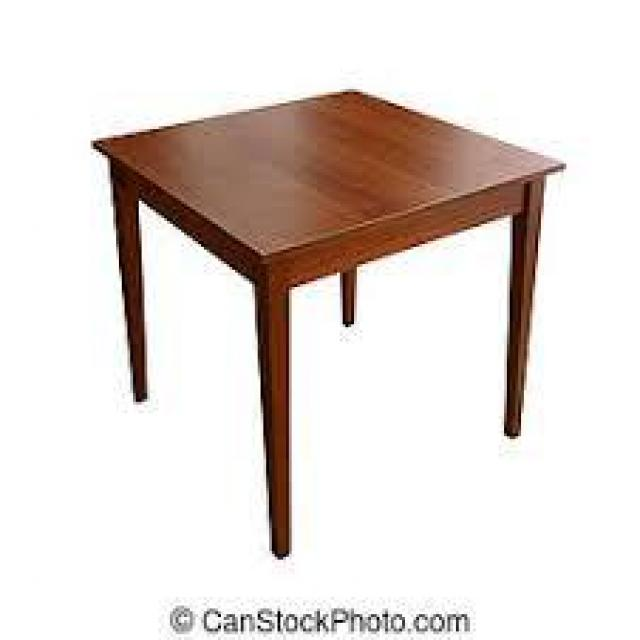table: (58, 60, 571, 548)
